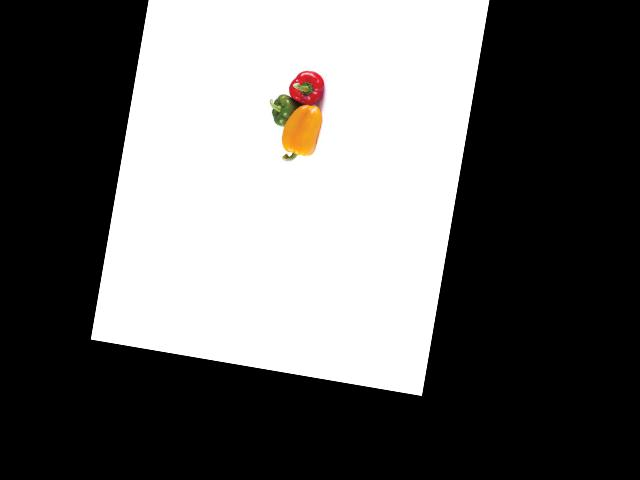bell_pepper: (265, 89, 303, 132)
